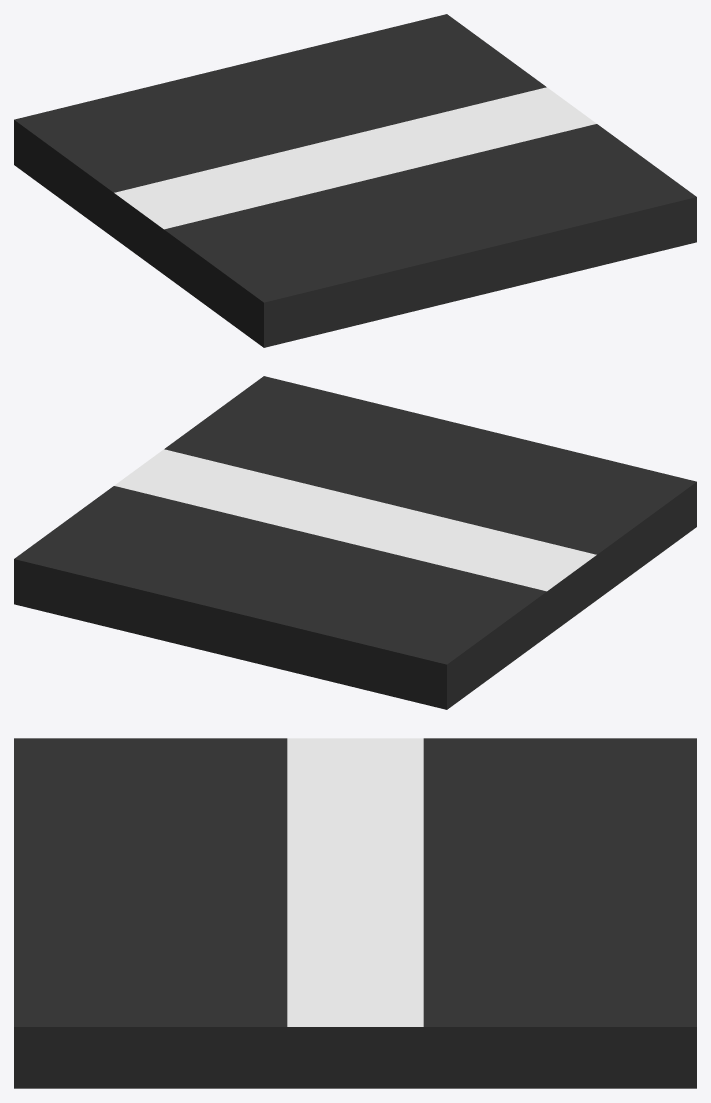
File: Mod_TileRoad_02.fbx
The picture shows the model from 3 angles, top to bottom: view 1: azimuth 30°, elevation 25°; view 2: azimuth 150°, elevation 25°; view 3: azimuth 270°, elevation 25°; orthographic projection. The views are drawn at different scales.
Parts seen in each view (by area): view 1: Mod_TileRoad_02; view 2: Mod_TileRoad_02; view 3: Mod_TileRoad_02.
Part boxes in pixels (x1=…): Mod_TileRoad_02: x1=14, y1=14, x2=696, y2=347; Mod_TileRoad_02: x1=14, y1=376, x2=696, y2=709; Mod_TileRoad_02: x1=14, y1=738, x2=696, y2=1088.
Bounding box in the file's own units: 100 × 10 × 100.
